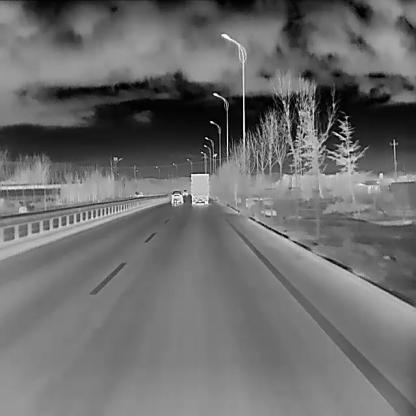car: (170, 189, 184, 204), (182, 188, 188, 196)
truck: (190, 172, 209, 204)
